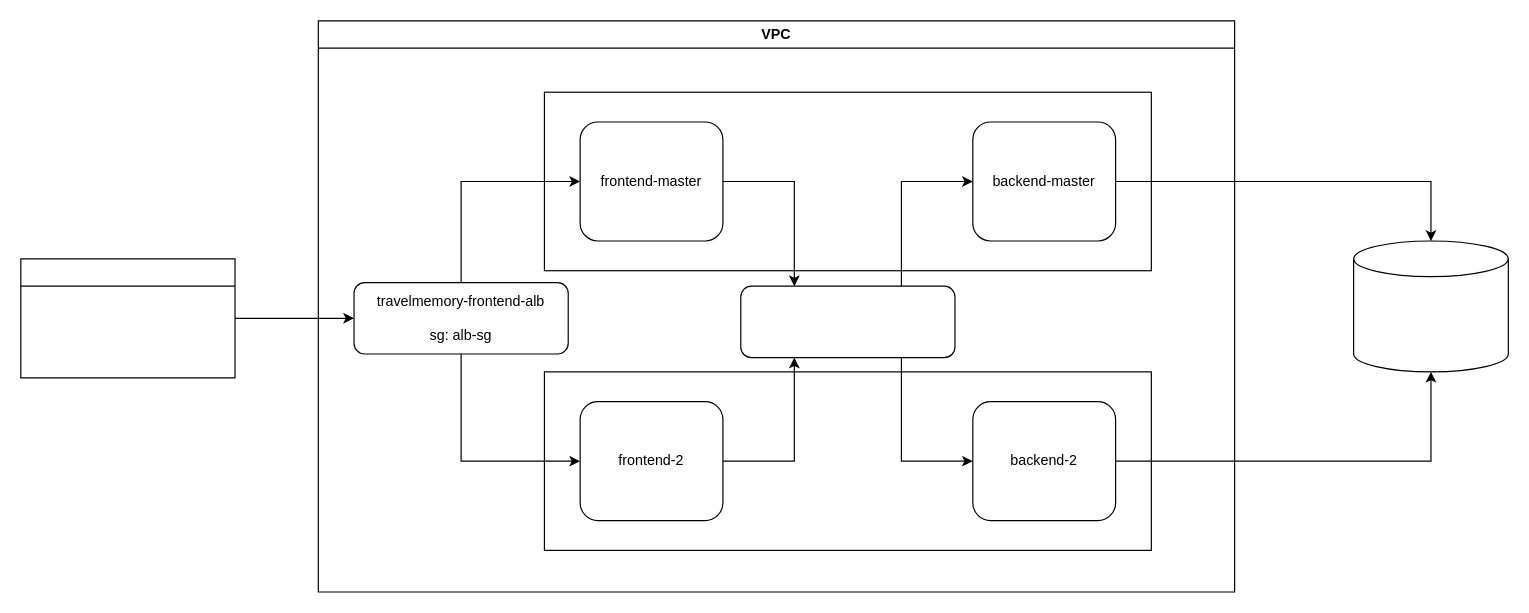
The diagram is 1529 pixels wide and 613 high, and some of its shapes have lost their labels. Here are the shapes that lost their labels. From the top down, the centre of each, then its label:
At (127,318): "Browser".
At (847,321): "travelmemory-backend-alb sg: alb-sg".
At (1430,306): "Mongo DB db: travelmemory".
